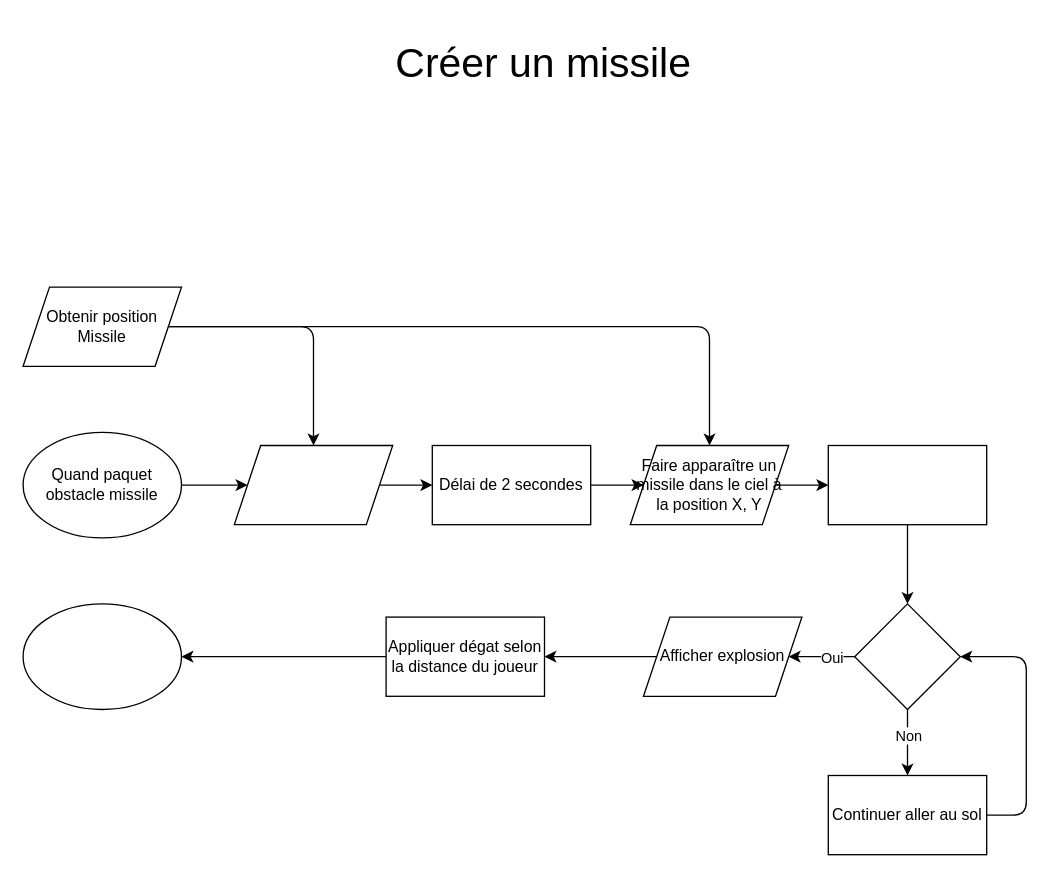
Image size: 1060x878. Some labels were removed from this diagram. Here are the shapes that lost their labels. From the top down, the box of each, then its label:
(233, 444, 393, 525): Afficher une cible à une position X, Y
(827, 444, 987, 525): Animation vers le sol
(22, 603, 182, 710): Fin
(853, 603, 960, 710): Touche le sol?
